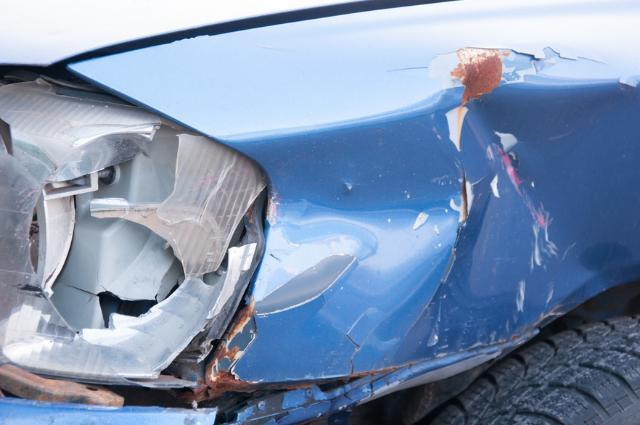Fender: (81, 17, 640, 387)
Light: (0, 76, 269, 396)
